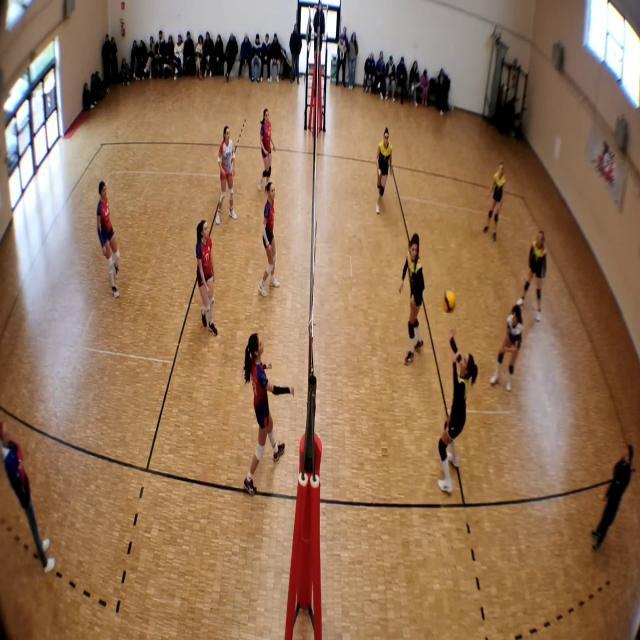volleyball: (442, 289, 456, 313)
